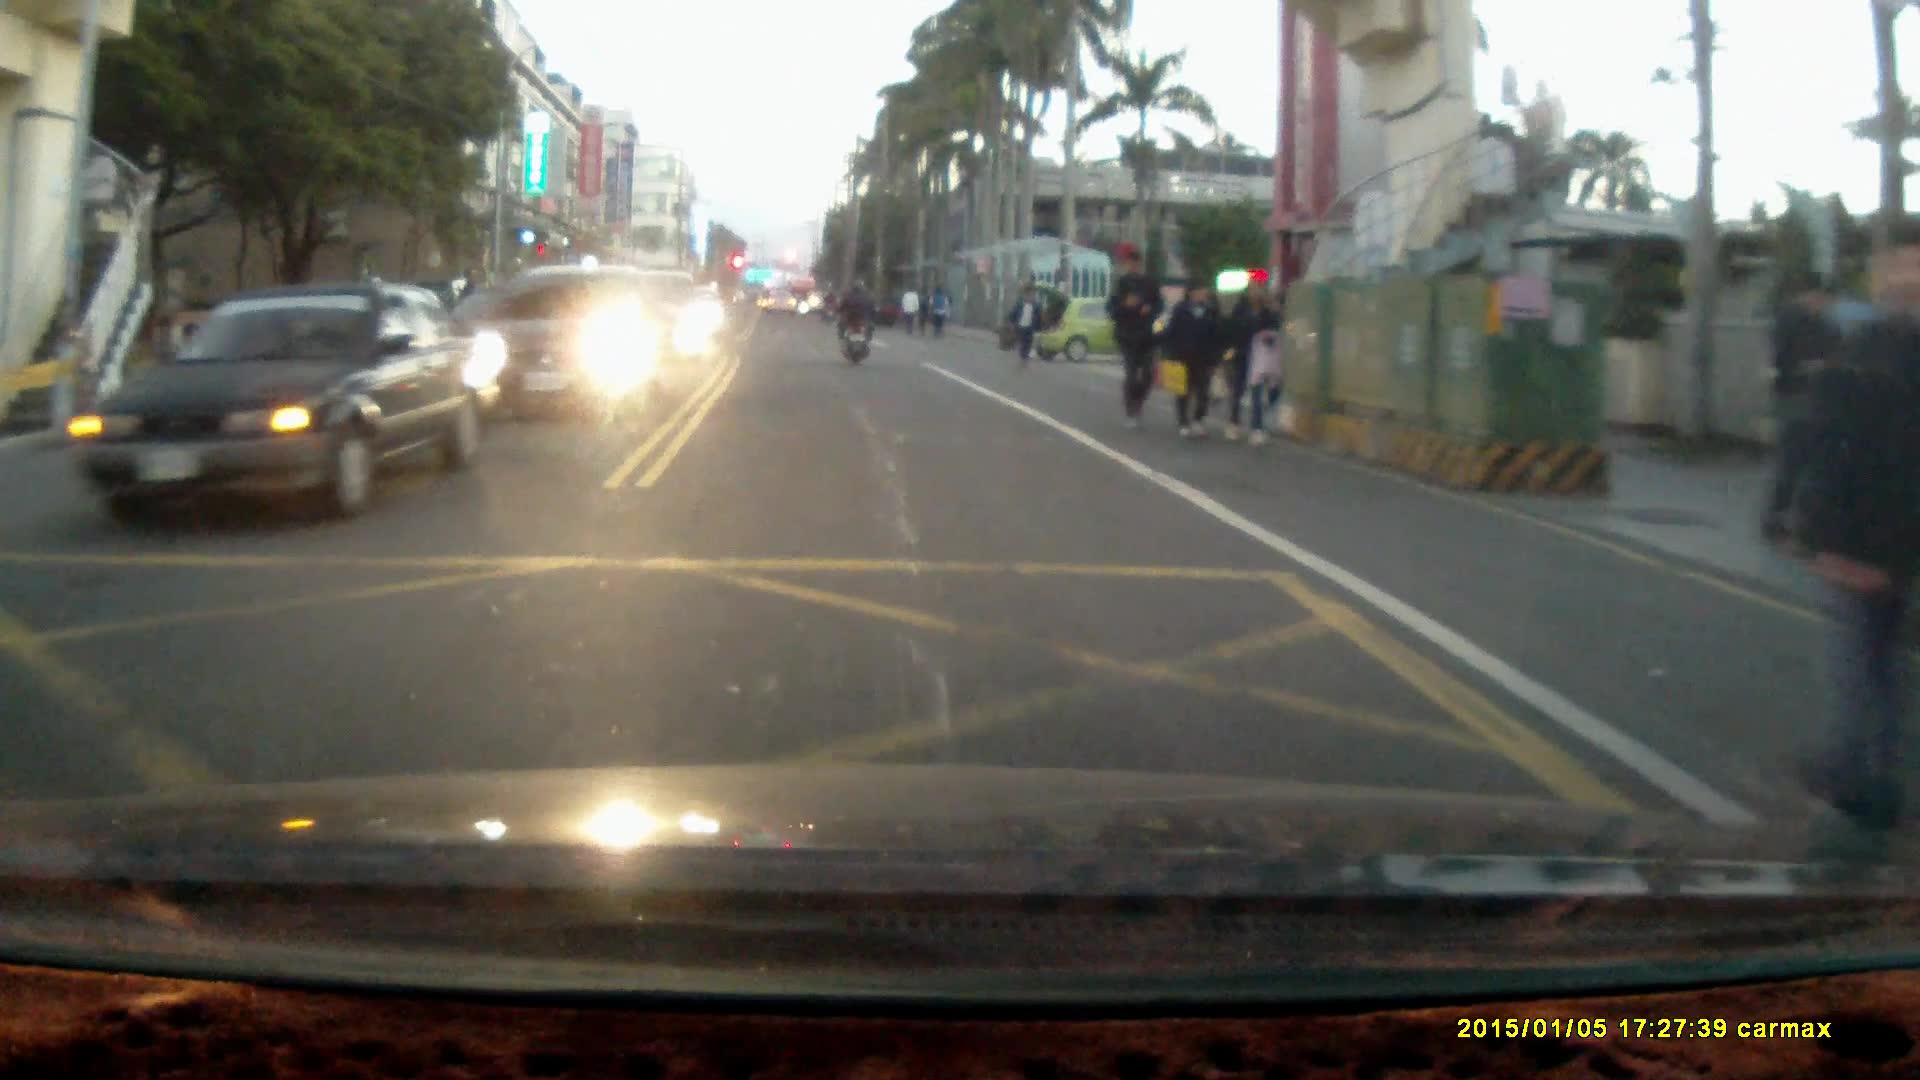pedestrian: (1789, 220, 1920, 871), (1759, 267, 1842, 560), (1104, 246, 1165, 432), (1226, 277, 1285, 450), (1167, 282, 1229, 443), (1008, 284, 1040, 369)
rider: (835, 275, 876, 367)
vehicle: (79, 285, 487, 530), (464, 267, 668, 421), (1024, 281, 1179, 367), (602, 268, 706, 368)
